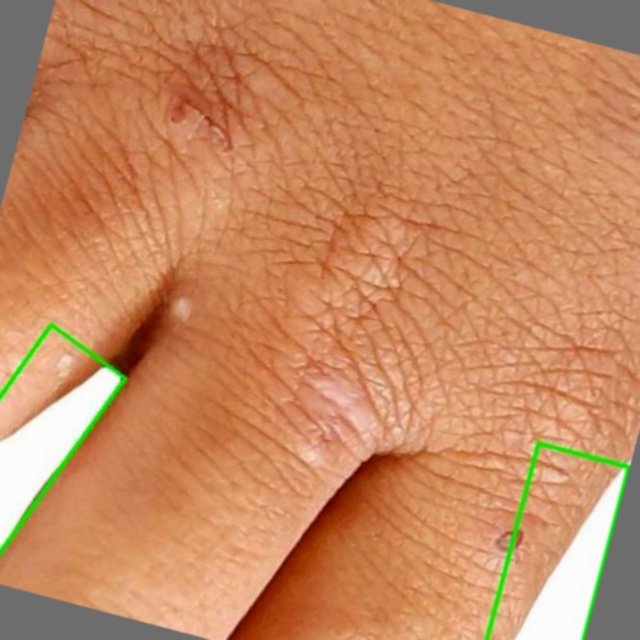Scabies: (0, 324, 129, 582), (486, 443, 628, 639)
